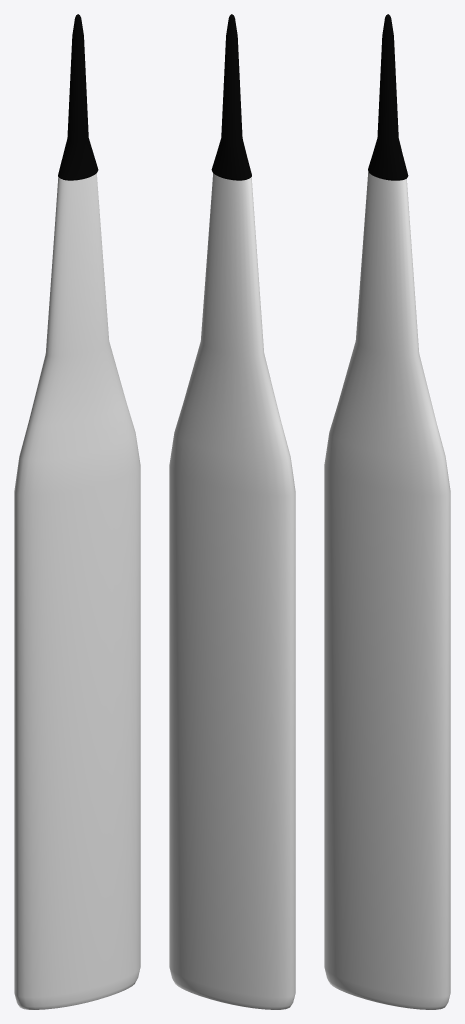
Rendered from lab_thermometer.fbx.
3 views of the same model, side by side, from view 1: azimuth 30°, elevation 25°; view 2: azimuth 150°, elevation 25°; view 3: azimuth 330°, elevation 25° (orthographic).
Visible parts, largest first — view 1: lab_thermometer; view 2: lab_thermometer; view 3: lab_thermometer.
Part boxes in pixels (bbox=[...]): lab_thermometer: bbox=[14, 14, 140, 1009]; lab_thermometer: bbox=[169, 14, 295, 1009]; lab_thermometer: bbox=[324, 14, 450, 1009].
Size of the model in its own units: 1.75 by 13.25 by 0.6002.
Materials: 4 (2 with a texture image).
